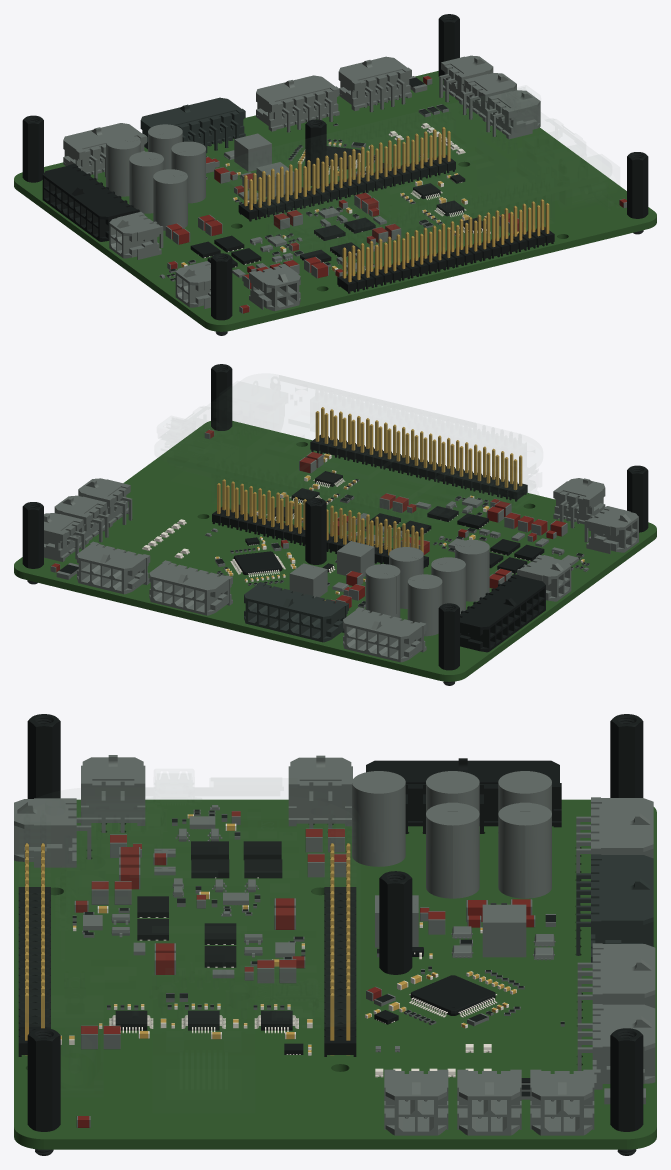
Rendered from bms.glb.
3 views of the same model, one above another, from view 1: azimuth 30°, elevation 25°; view 2: azimuth 150°, elevation 25°; view 3: azimuth 270°, elevation 25° (orthographic). The views are drawn at different scales.
Size of the model in its own units: 127 by 24.1 by 102.
